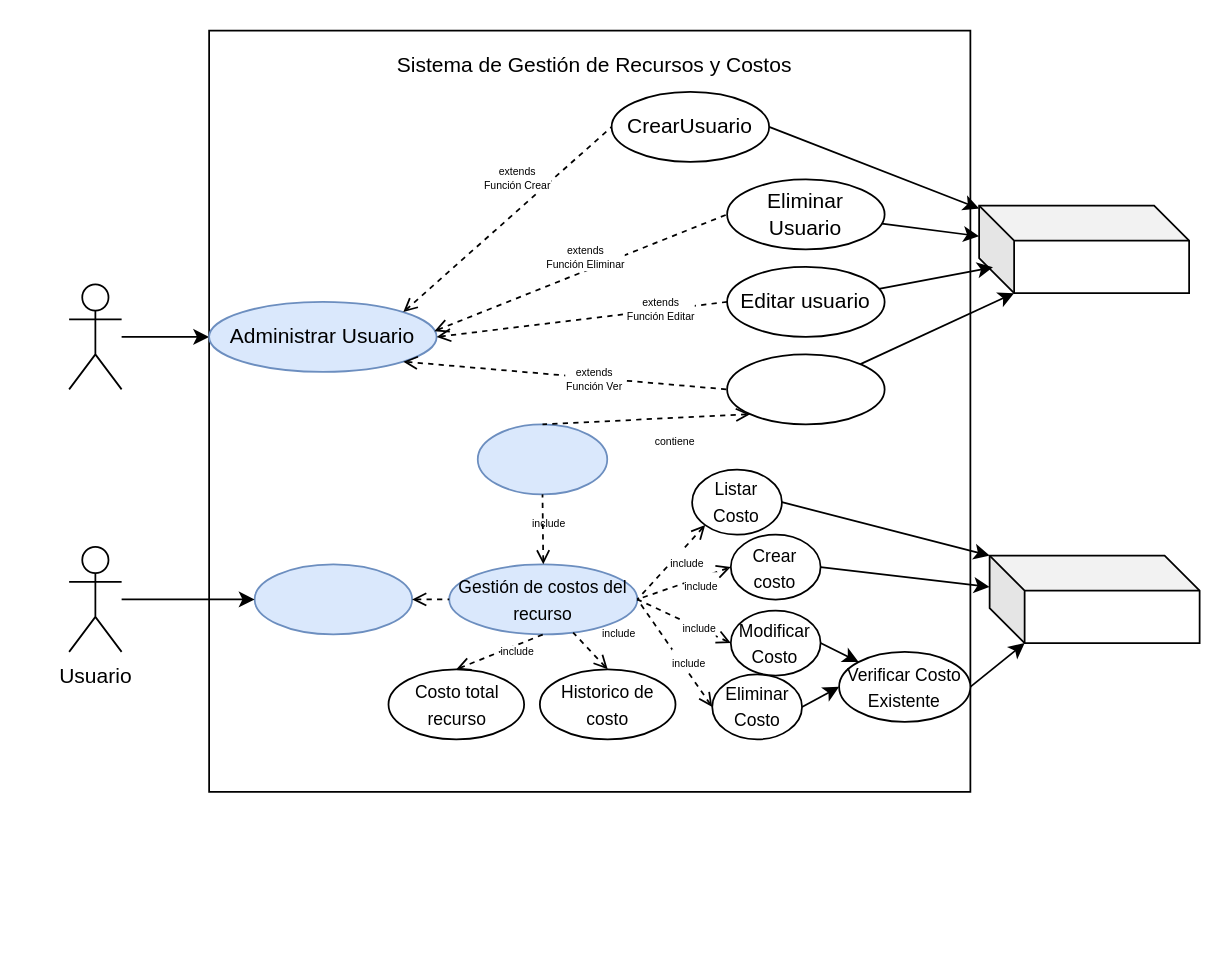
Image size: 1230x963. Some labels were removed from this diagram. Each missing label, with the centre of its shape:
Administrador: point 94,336
BD Recursos: point 1094,598
BD Usuarios: point 1083,248
Gestión de recursos: point 332,598
Recursos usuario: point 541,458
Ver Usuario: point 805,388
